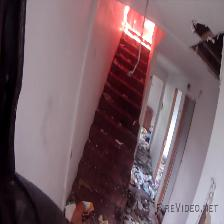fire: (121, 1, 167, 60)
